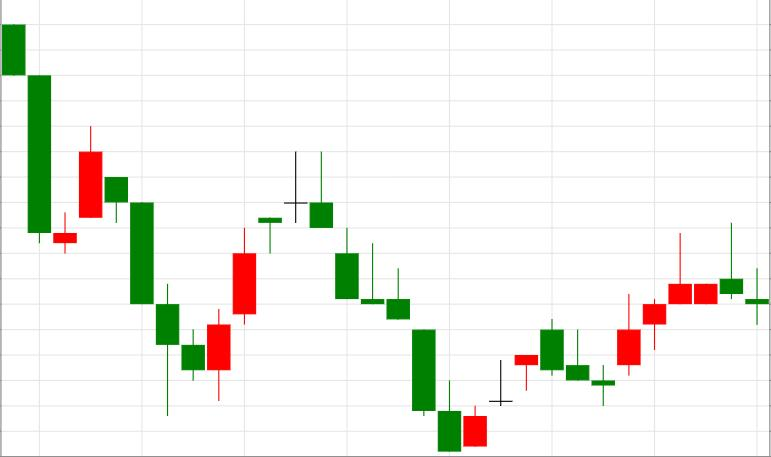bullish_engulfing_rise: (105, 176, 230, 416)
shooting_star_fall: (207, 150, 333, 400)
